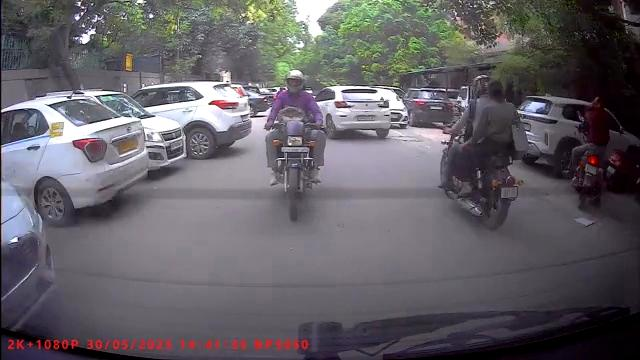motorcycle_with_helmet: (264, 68, 327, 224)
passenger_without_helmet: (438, 73, 518, 235)
